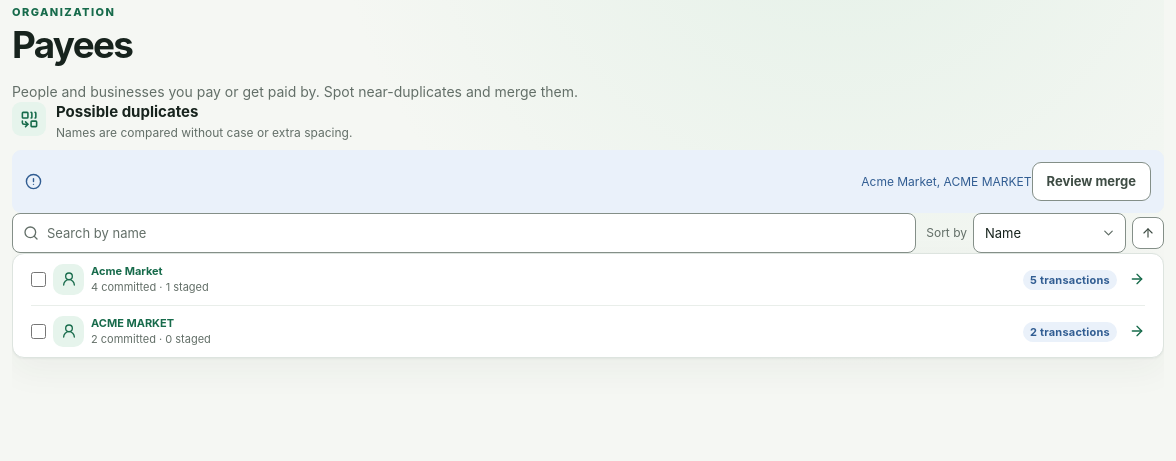
Scenario: payee browsing and merging › preselects every duplicate and keeps the payee the server put first
The image size is (1176, 461).
Click the button "Review merge" at (1091, 181), box [1032,162,1151,201]
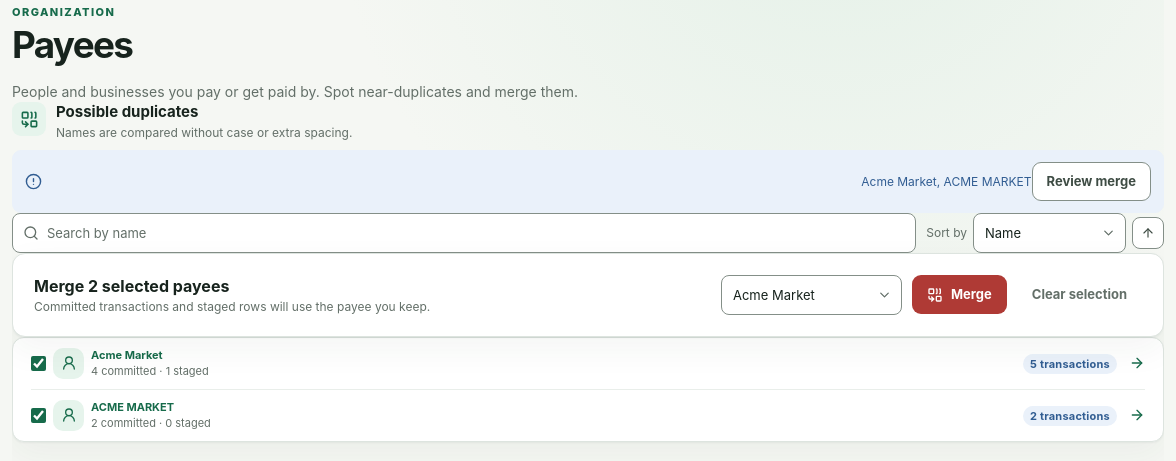
Check: the dropdown named "Payee to keep" shows "Acme Market", box [721,275,902,315]
Check: the button "Merge" is enabled, box [912,275,1007,314]
